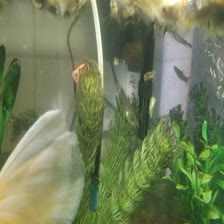Cuezo: (4, 104, 105, 210)
Guppy: (162, 25, 197, 50), (170, 58, 189, 85), (140, 64, 156, 81)
